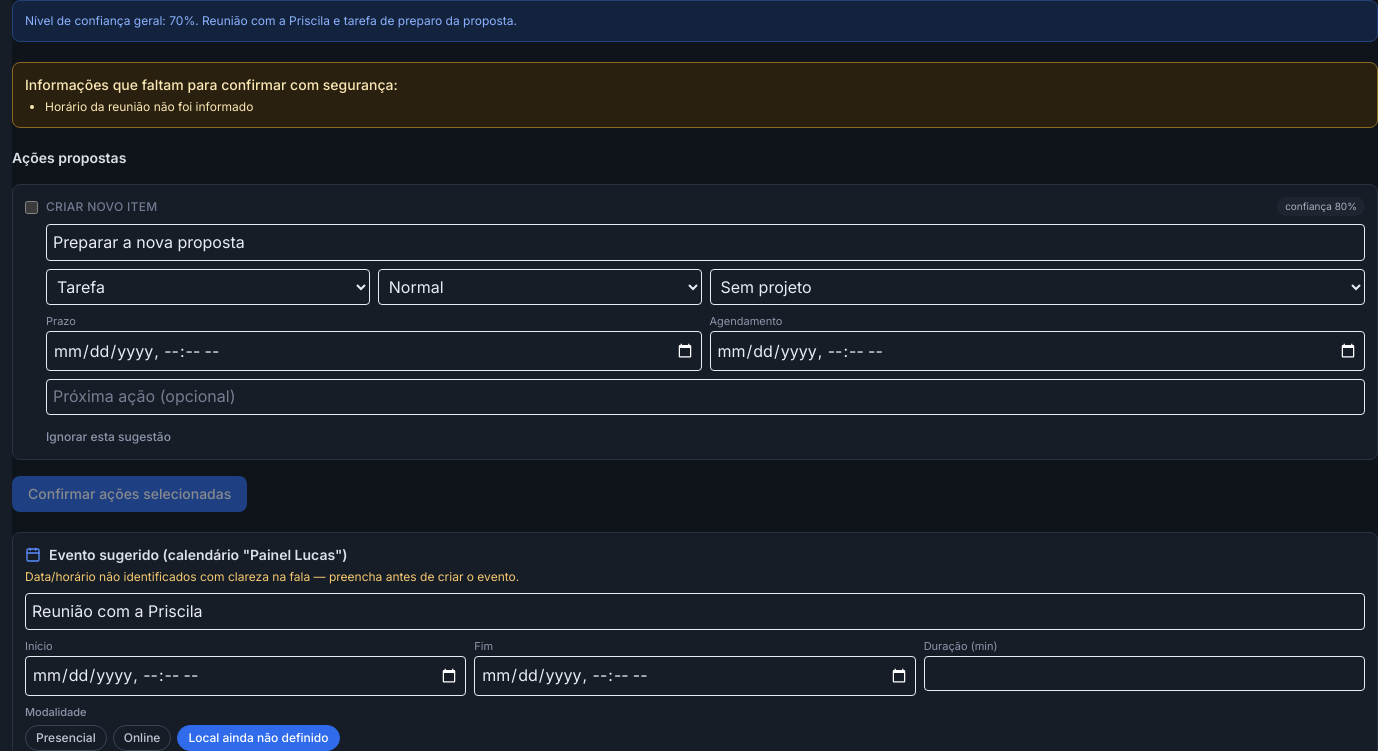
it: AudioCaptureReview — ações propostas › cada ação proposta exige aprovação individual antes de ser aplicada — via rota de servidor
The width and height of the screenshot is (1378, 751).
Check: the button "Confirmar ações selecionadas" is disabled, box [12,476,247,512]
Click the checkbox named "Aprovar ação: Preparar a nova proposta". click: click(32, 208)
box: [25,201,38,214]
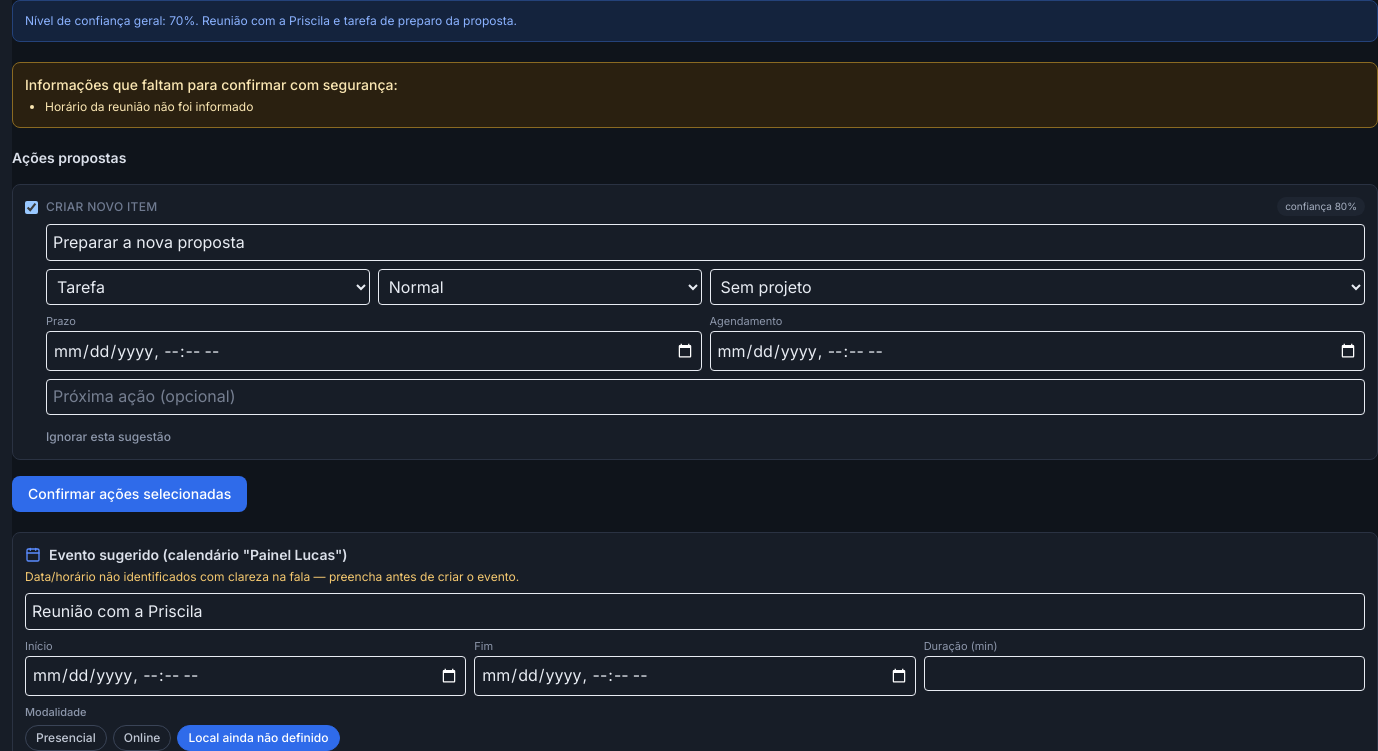
Check: the button "Confirmar ações selecionadas" is enabled
Click the button "Confirmar ações selecionadas". click: click(130, 494)
box: [12,476,247,512]
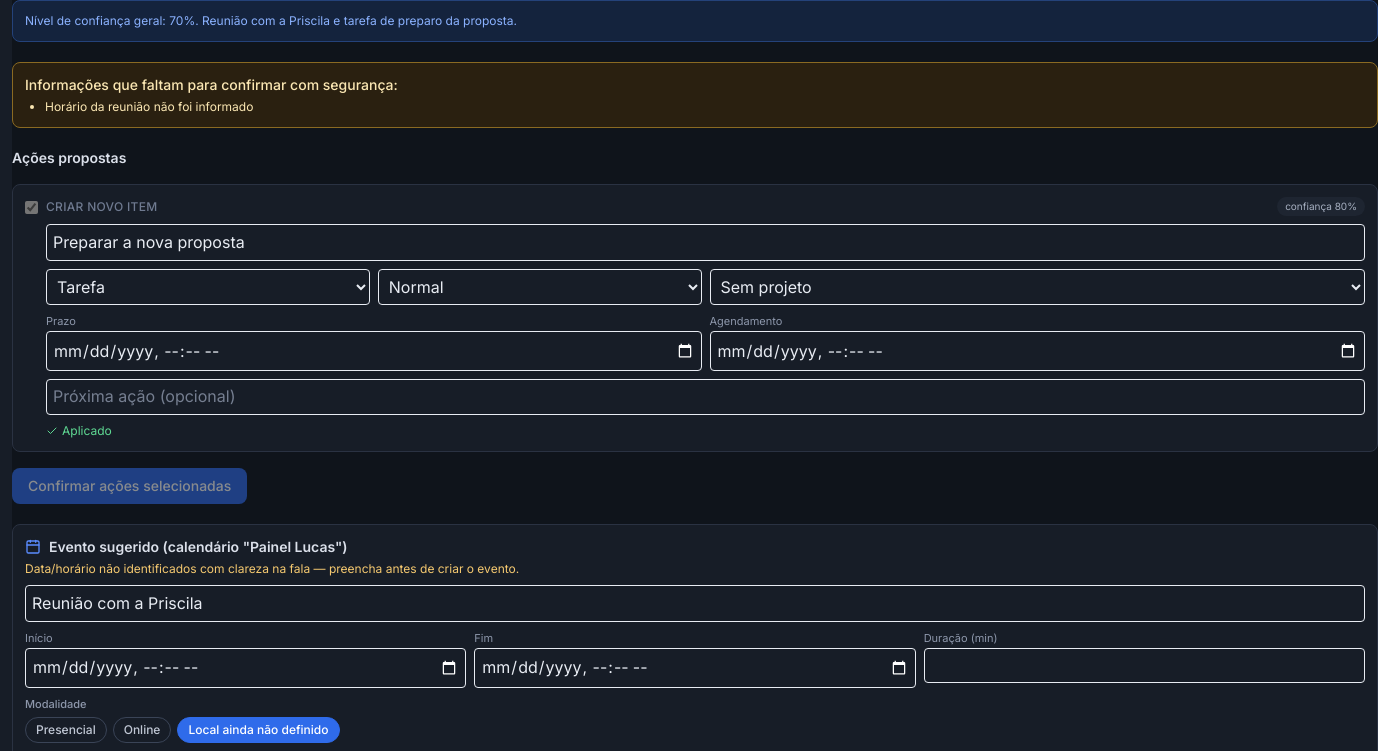
Check: the text "Aplicado" is shown, box [46,423,112,438]
